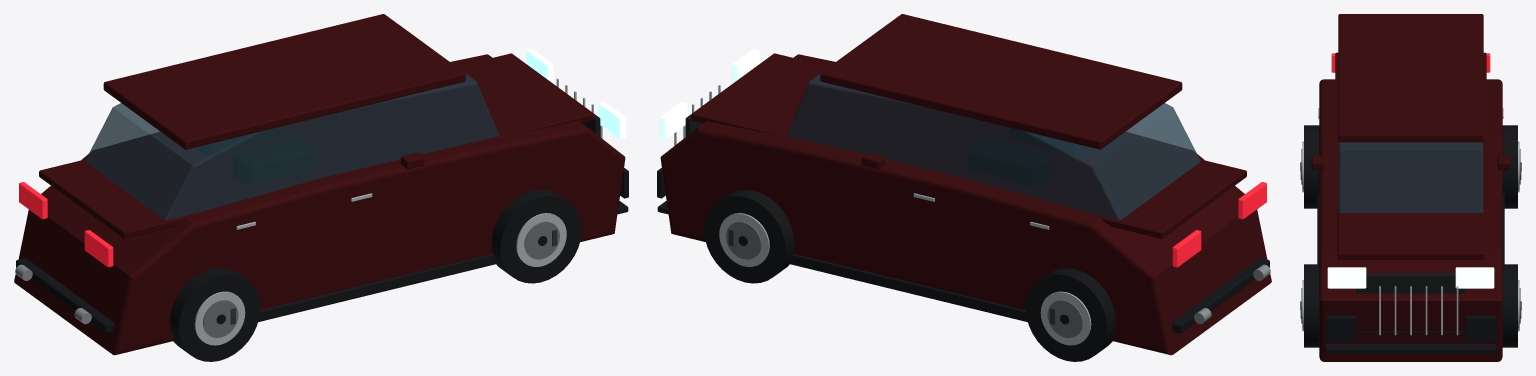
Rendered from ford_freestar.glb.
3 views of the same model, side by side, from view 1: azimuth 30°, elevation 25°; view 2: azimuth 150°, elevation 25°; view 3: azimuth 270°, elevation 25° (orthographic). The views are drawn at different scales.
Visible parts, largest first — view 1: sculpted_body, glasshouse, roof, hood_center, rear_deck, rear_right_wheel_tire, front_right_wheel_tire, side_skirt_1, seat_1, rear_diffuser, rear_right_wheel_rim, front_right_wheel_rim (+7 smaller); view 2: sculpted_body, glasshouse, roof, hood_center, rear_deck, rear_left_wheel_tire, front_left_wheel_tire, side_skirt_-1, seat_-1, rear_diffuser, rear_left_wheel_rim, front_left_wheel_rim (+7 smaller); view 3: sculpted_body, roof, glasshouse, hood_center, front_grille, front_splitter, front_left_wheel_tire, front_right_wheel_tire, rear_left_wheel_tire, rear_right_wheel_tire, headlight_right, headlight_left (+7 smaller).
Part boxes in pixels (x1=…): sculpted_body: x1=14, y1=54, x2=625, y2=355; glasshouse: x1=85, y1=25, x2=498, y2=220; roof: x1=103, y1=14, x2=465, y2=149; hood_center: x1=417, y1=53, x2=594, y2=140; rear_deck: x1=39, y1=153, x2=198, y2=238; rear_right_wheel_tire: x1=170, y1=268, x2=260, y2=361; front_right_wheel_tire: x1=491, y1=189, x2=581, y2=283; side_skirt_1: x1=258, y1=253, x2=497, y2=322; seat_1: x1=233, y1=138, x2=317, y2=185; rear_diffuser: x1=16, y1=258, x2=114, y2=333; rear_right_wheel_rim: x1=194, y1=291, x2=245, y2=345; front_right_wheel_rim: x1=516, y1=213, x2=566, y2=266; sculpted_body: x1=660, y1=54, x2=1271, y2=355; glasshouse: x1=787, y1=25, x2=1200, y2=220; roof: x1=820, y1=14, x2=1182, y2=149; hood_center: x1=691, y1=53, x2=868, y2=140; rear_deck: x1=1087, y1=153, x2=1246, y2=238; rear_left_wheel_tire: x1=1025, y1=268, x2=1115, y2=361; front_left_wheel_tire: x1=704, y1=189, x2=794, y2=283; side_skirt_-1: x1=788, y1=253, x2=1027, y2=322; seat_-1: x1=968, y1=138, x2=1052, y2=185; rear_diffuser: x1=1171, y1=258, x2=1269, y2=333; rear_left_wheel_rim: x1=1040, y1=291, x2=1091, y2=345; front_left_wheel_rim: x1=719, y1=213, x2=769, y2=266; sculpted_body: x1=1319, y1=79, x2=1502, y2=361; roof: x1=1338, y1=14, x2=1483, y2=142; glasshouse: x1=1338, y1=142, x2=1483, y2=212; hood_center: x1=1337, y1=205, x2=1484, y2=259; front_grille: x1=1356, y1=273, x2=1465, y2=333; front_splitter: x1=1325, y1=344, x2=1496, y2=353; front_left_wheel_tire: x1=1502, y1=264, x2=1517, y2=347; front_right_wheel_tire: x1=1304, y1=264, x2=1319, y2=347; rear_left_wheel_tire: x1=1502, y1=125, x2=1517, y2=208; rear_right_wheel_tire: x1=1304, y1=125, x2=1319, y2=208; headlight_right: x1=1327, y1=267, x2=1366, y2=288; headlight_left: x1=1455, y1=267, x2=1494, y2=288.
Bounding box in the file's own units: 5.66 × 2.1 × 2.28.
